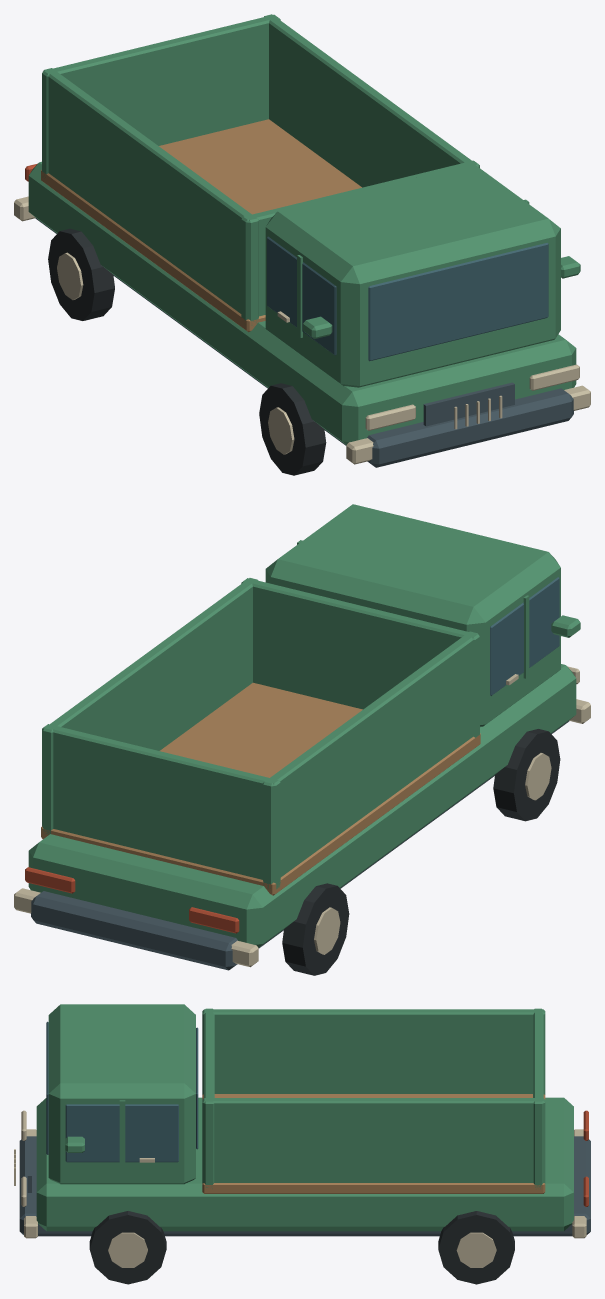
File: vehicle_dump.glb
The picture shows the model from 3 angles, top to bottom: view 1: azimuth 30°, elevation 25°; view 2: azimuth 150°, elevation 25°; view 3: azimuth 270°, elevation 25°; orthographic projection. The views are drawn at different scales.
Visible parts, largest first — view 1: vehicle_dump; view 2: vehicle_dump; view 3: vehicle_dump.
Part boxes in pixels (x1,y1,x2,y2): vehicle_dump: [14, 14, 590, 475]; vehicle_dump: [14, 504, 590, 975]; vehicle_dump: [14, 1004, 590, 1284].
Bounding box in the file's own units: 2.87 × 2.34 × 6.46.
